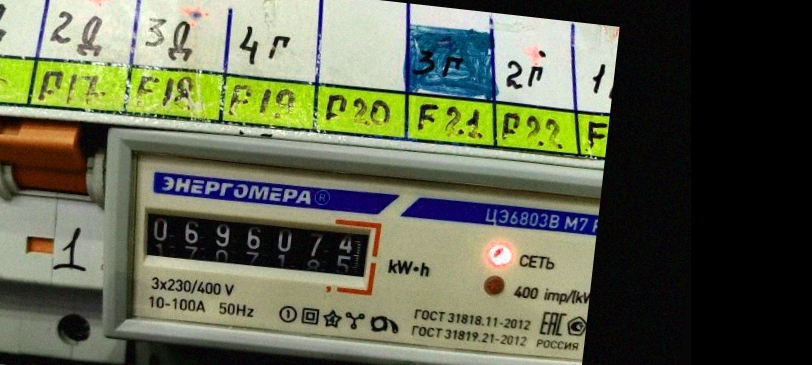0: (149, 214, 169, 241), (274, 225, 293, 253)
4: (336, 231, 353, 254)
5: (334, 253, 350, 273)
6: (180, 217, 200, 244), (243, 222, 262, 250)
7: (305, 230, 324, 257)
9: (211, 220, 231, 248)
screen: (131, 193, 384, 297)
